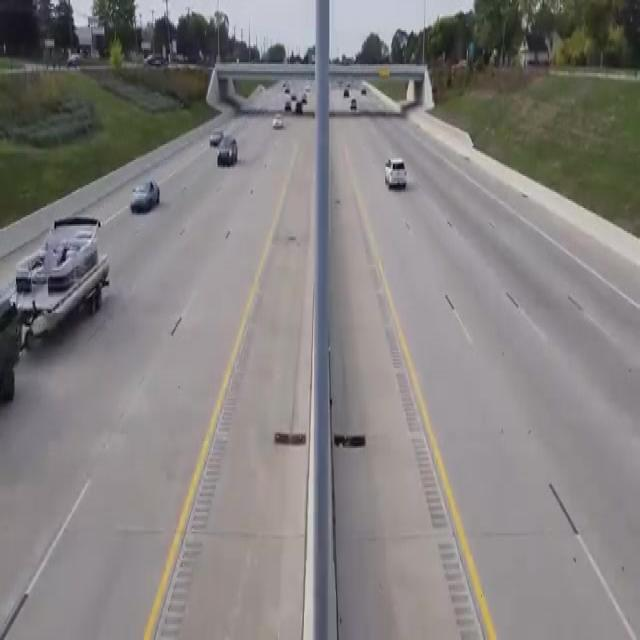car: (132, 178, 177, 234), (380, 148, 420, 193), (219, 130, 243, 183), (267, 113, 296, 135), (291, 91, 306, 120), (210, 124, 222, 152), (284, 96, 292, 121)
truck: (0, 208, 118, 398)
